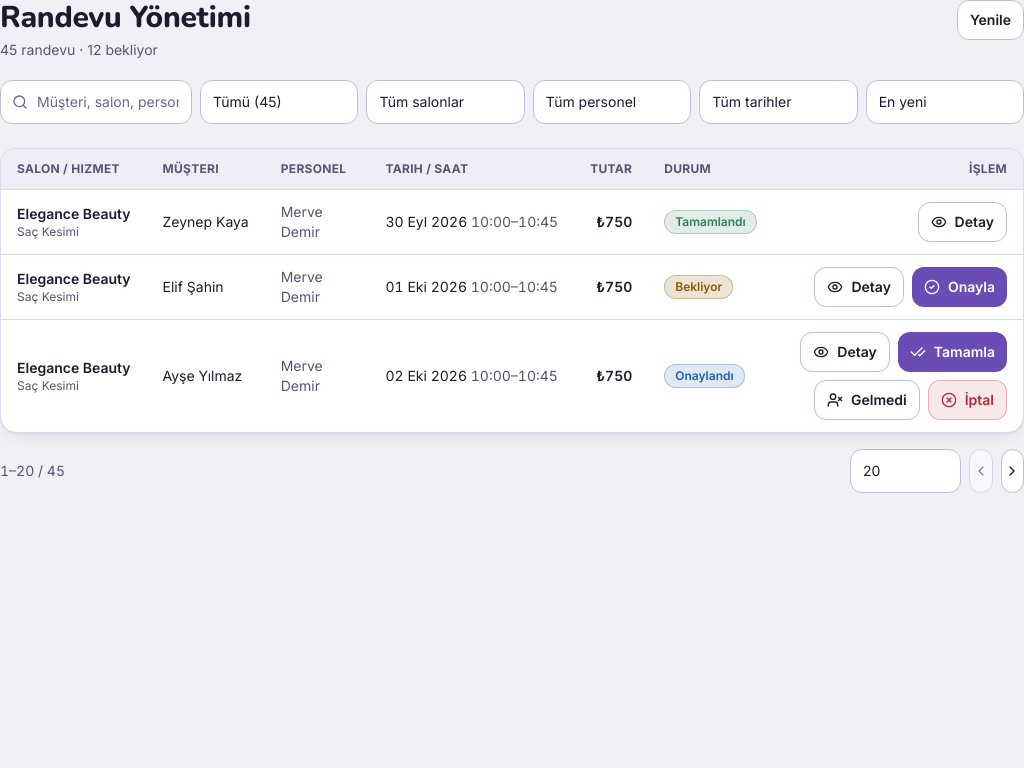
Scenario: AppointmentsPage › İptal önce onay ister; Vazgeç PATCH atmaz, onay CANCELLED gönderir
Click the button "İptal".
click(967, 400)  # box [928,380,1007,420]
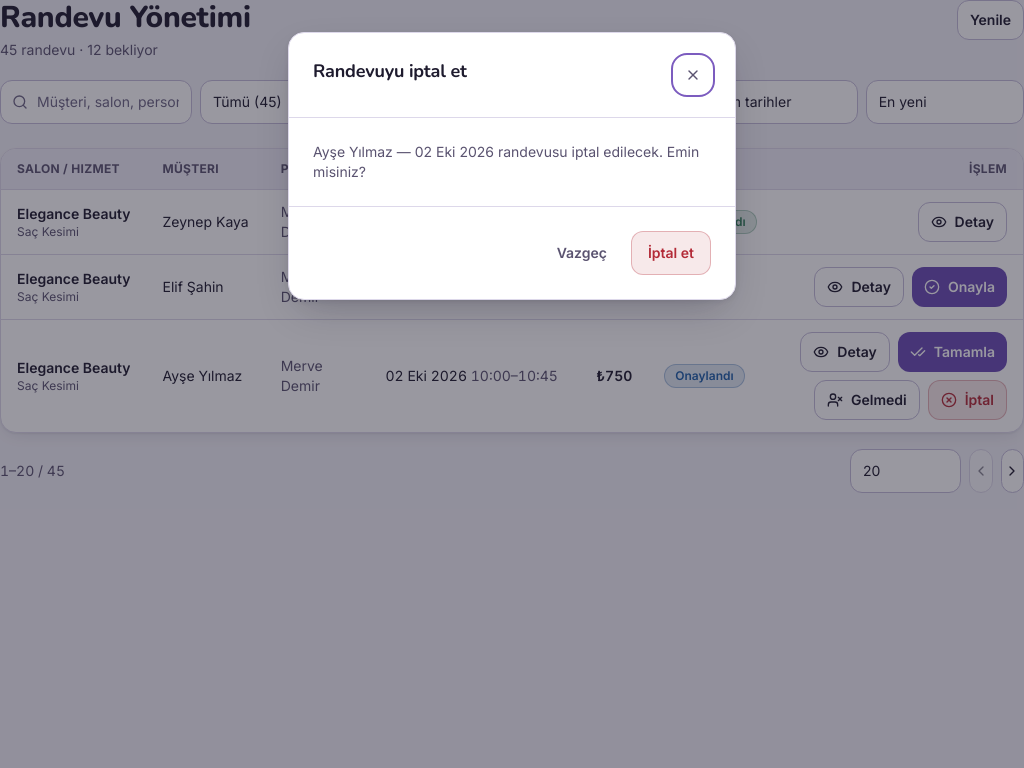
Expected: the dialog "Randevuyu iptal et" shows "Emin misiniz?", [313,143,699,180]
Expected: the dialog "Randevuyu iptal et" shows "Ayşe Yılmaz", [313,143,699,180]
Click the button "Vazgeç".
click(582, 253)  # box [541,231,623,275]
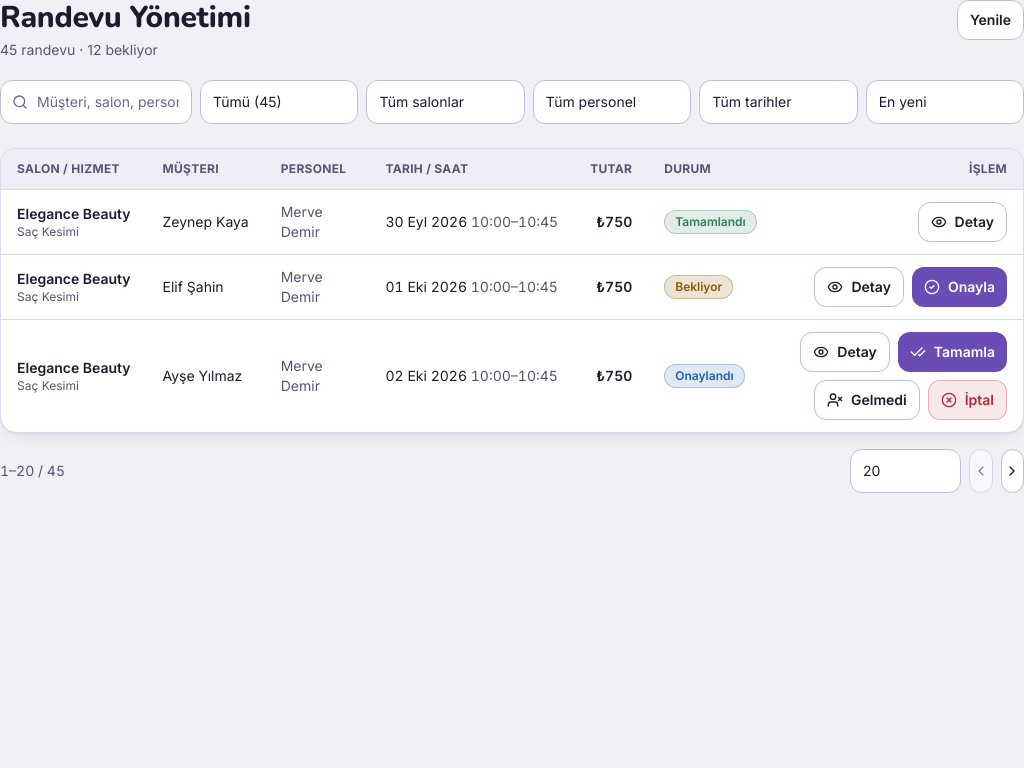
Expected: the heading "Randevuyu iptal et" is gone
Click the button "İptal".
click(967, 400)  # box [928,380,1007,420]
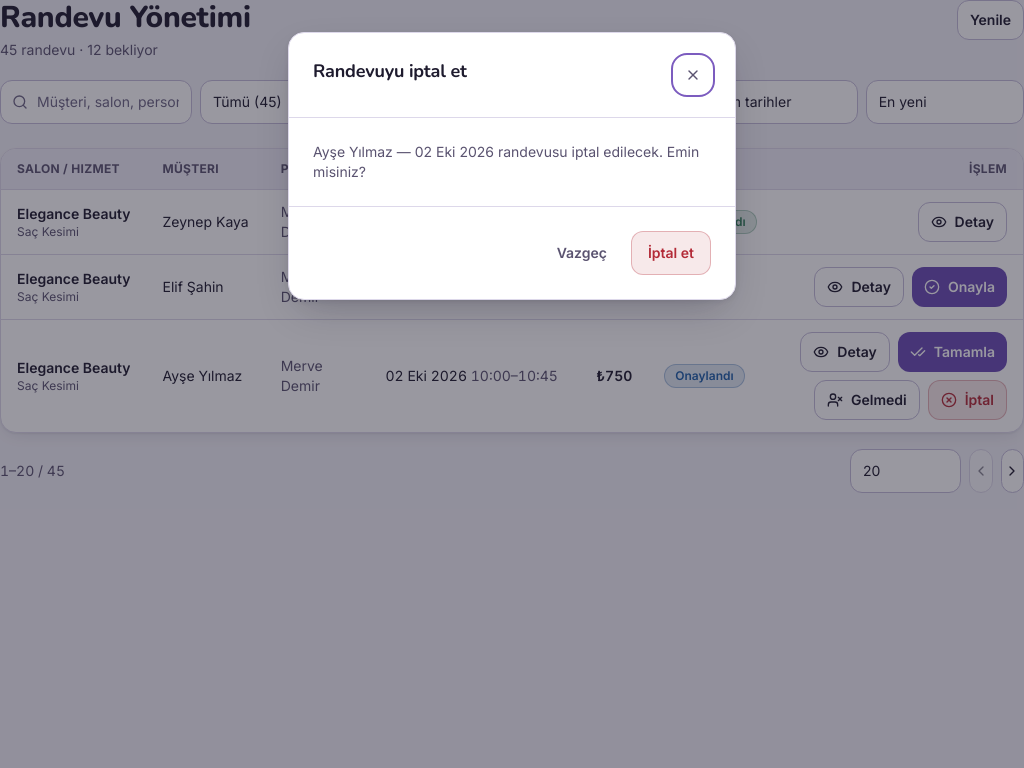
Click the button "İptal et".
click(671, 253)  # box [631,231,711,275]
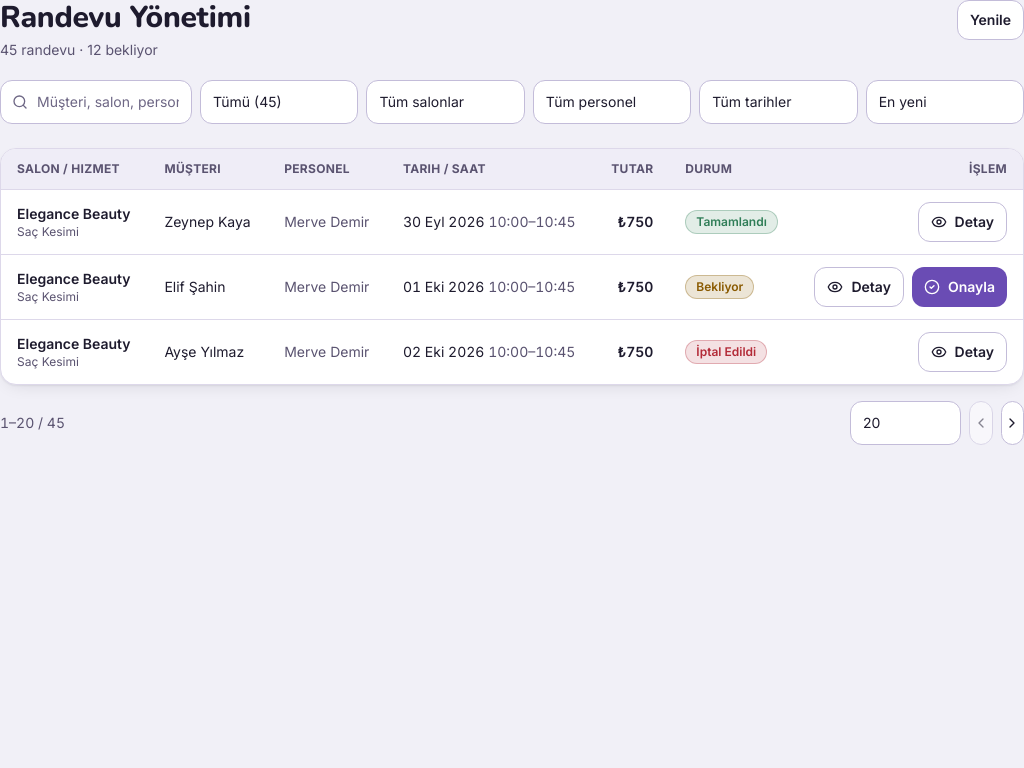
Expected: the buttons read "Detay", in this order, [918,332,1007,372]
